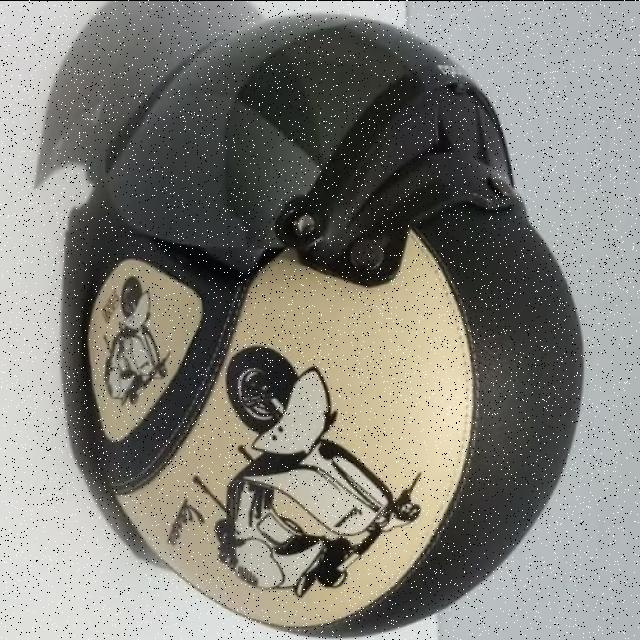Helmet: (31, 0, 584, 640)
